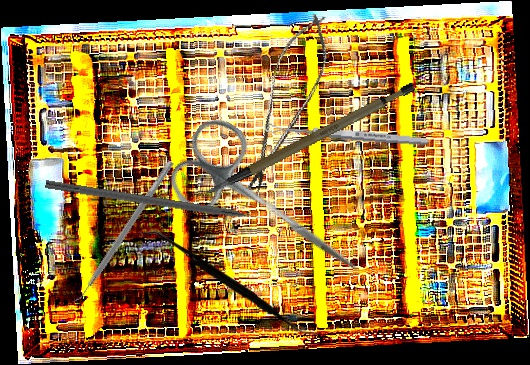Hook Surgical: (44, 180, 274, 227)
Iris Scissors: (158, 110, 388, 307)
Micro Scissor: (233, 6, 341, 200)
Scalpel Handle: (192, 79, 426, 197)
Spatula Surgical: (137, 230, 320, 338), (68, 155, 175, 308)
Surgical Spoon: (263, 121, 430, 148)
